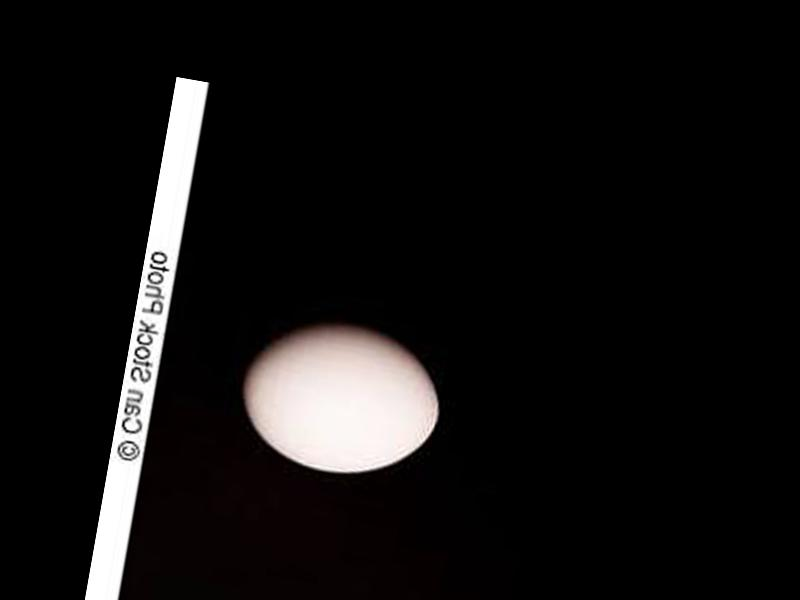Eggs: (228, 309, 450, 488)
